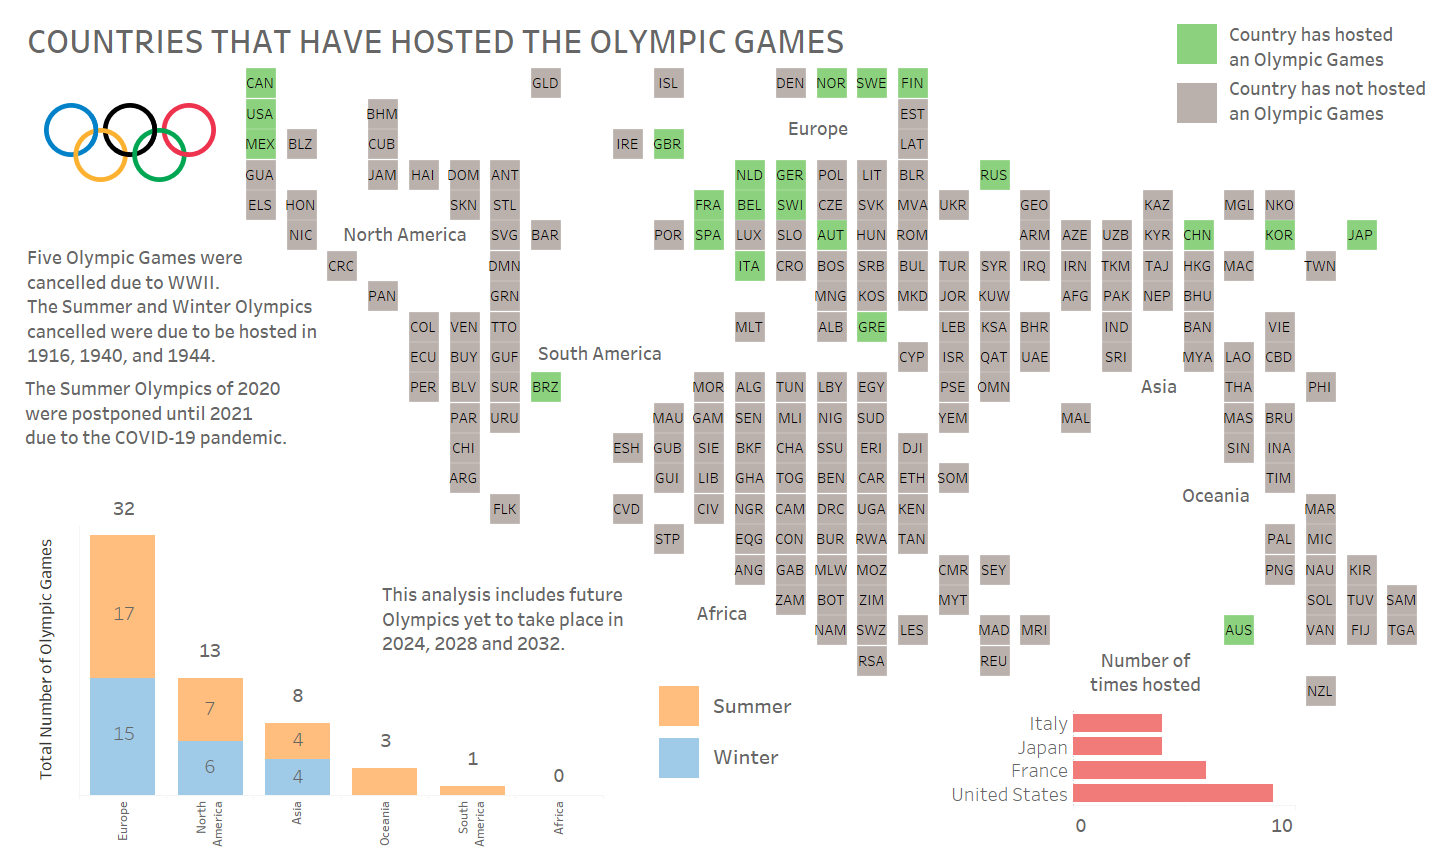

Layout of this report page (visuals, bound fields, positions):
{"tool":"tableau","page":{"name":"Dashboard 1","canvas":[1450,850],"ordinal":0},"visuals":[{"type":"text","box":[23,8,992,65]},{"type":"text","box":[1225,9,187,75]},{"type":"worksheet","title":"Sheet 3 (2)","mark":"Automatic","box":[1177,24,40,40]},{"type":"text","box":[1225,63,221,75]},{"type":"worksheet","title":"Sheet 4 (2)","mark":"Automatic","box":[1177,83,40,40]},{"type":"image","param":"Image/Olympic_rings_without_rims.svg","box":[44,98,172,90]},{"type":"text","box":[768,113,100,30]},{"type":"text","box":[335,219,140,30]},{"type":"text","box":[23,231,305,152]},{"type":"text","box":[530,338,140,30]},{"type":"text","box":[21,361,305,104]},{"type":"text","box":[1089,371,140,30]},{"type":"text","box":[1146,480,140,30]},{"type":"text","box":[104,497,40,28]},{"type":"text","box":[378,567,305,104]},{"type":"text","box":[652,598,140,30]},{"type":"text","box":[104,602,40,40]},{"type":"text","box":[1082,636,127,72]},{"type":"text","box":[190,639,40,40]},{"type":"text","box":[709,676,108,58]},{"type":"text","box":[278,683,40,40]},{"type":"worksheet","title":"Sheet 4","mark":"Automatic","box":[659,686,40,40]},{"type":"text","box":[190,703,40,40]},{"type":"worksheet","title":"Sheet 8","mark":"Automatic","rows":["Country (Host cities for Summer and Wint) (copy)_28009575111"],"cols":["Year"],"box":[933,711,362,126]},{"type":"text","box":[104,727,40,40]},{"type":"text","box":[709,727,108,58]},{"type":"text","box":[366,732,40,40]},{"type":"text","box":[278,737,40,40]},{"type":"worksheet","title":"Sheet 3","mark":"Automatic","box":[659,738,40,40]},{"type":"text","box":[453,755,40,40]},{"type":"text","box":[190,765,40,40]},{"type":"text","box":[539,765,40,40]},{"type":"text","box":[278,775,40,40]}]}

Visuals, with their boxes in screenshot pixels (x1, y1, x2, y2), scaled from the page's 1450x850 canvas onto the 1450x850 screenshot:
text: [left=23, top=8, right=1015, bottom=73]
text: [left=1225, top=9, right=1412, bottom=84]
"Sheet 3 (2)" worksheet: [left=1177, top=24, right=1217, bottom=64]
text: [left=1225, top=63, right=1446, bottom=138]
"Sheet 4 (2)" worksheet: [left=1177, top=83, right=1217, bottom=123]
image: [left=44, top=98, right=216, bottom=188]
text: [left=768, top=113, right=868, bottom=143]
text: [left=335, top=219, right=475, bottom=249]
text: [left=23, top=231, right=328, bottom=383]
text: [left=530, top=338, right=670, bottom=368]
text: [left=21, top=361, right=326, bottom=465]
text: [left=1089, top=371, right=1229, bottom=401]
text: [left=1146, top=480, right=1286, bottom=510]
text: [left=104, top=497, right=144, bottom=525]
text: [left=378, top=567, right=683, bottom=671]
text: [left=652, top=598, right=792, bottom=628]
text: [left=104, top=602, right=144, bottom=642]
text: [left=1082, top=636, right=1209, bottom=708]
text: [left=190, top=639, right=230, bottom=679]
text: [left=709, top=676, right=817, bottom=734]
text: [left=278, top=683, right=318, bottom=723]
"Sheet 4" worksheet: [left=659, top=686, right=699, bottom=726]
text: [left=190, top=703, right=230, bottom=743]
"Sheet 8" worksheet: [left=933, top=711, right=1295, bottom=837]
text: [left=104, top=727, right=144, bottom=767]
text: [left=709, top=727, right=817, bottom=785]
text: [left=366, top=732, right=406, bottom=772]
text: [left=278, top=737, right=318, bottom=777]
"Sheet 3" worksheet: [left=659, top=738, right=699, bottom=778]
text: [left=453, top=755, right=493, bottom=795]
text: [left=190, top=765, right=230, bottom=805]
text: [left=539, top=765, right=579, bottom=805]
text: [left=278, top=775, right=318, bottom=815]
